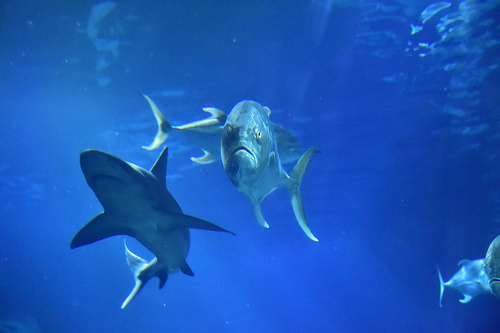shark: (43, 132, 242, 308)
